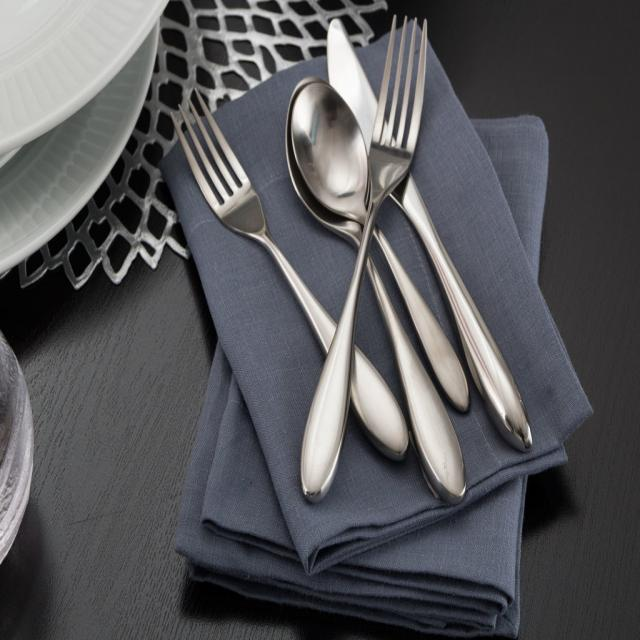non-organic waste: (0, 20, 181, 286)
